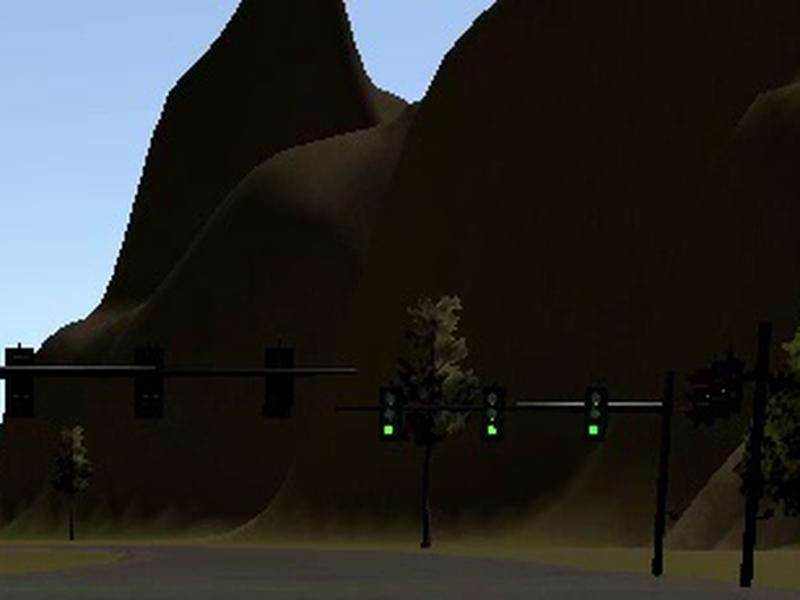Green: (378, 385, 404, 441), (583, 386, 608, 440), (482, 386, 506, 441)
